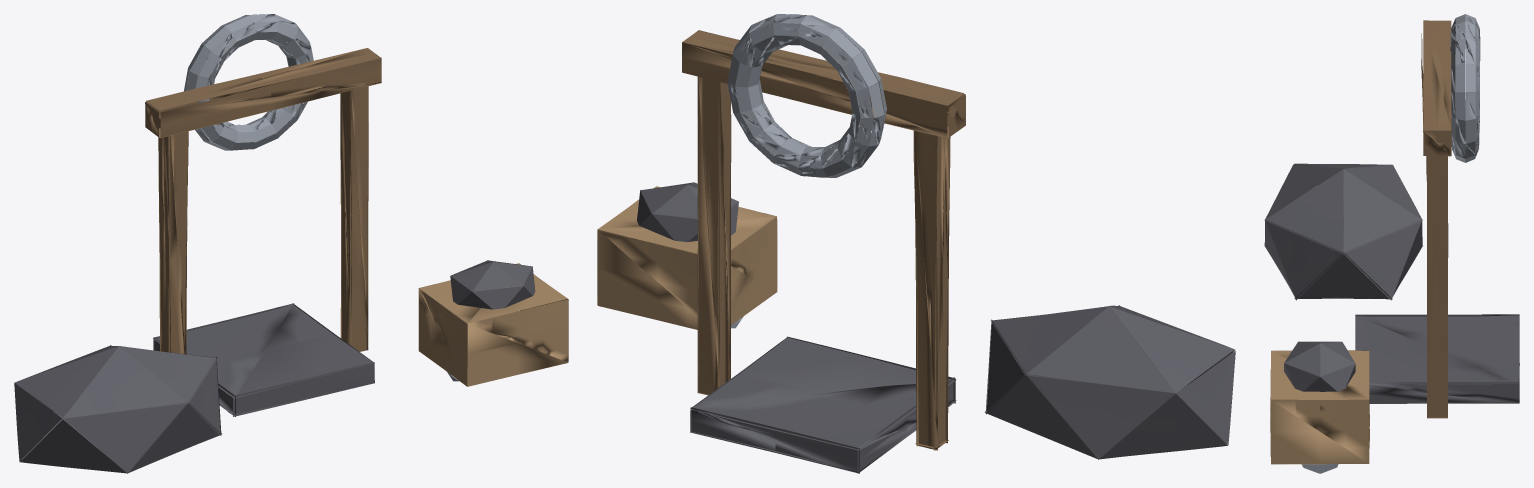
Rendered from coal_mine.glb.
3 renders of one model, left to right at view 1: azimuth 30°, elevation 25°; view 2: azimuth 150°, elevation 25°; view 3: azimuth 270°, elevation 25°, orthographic. The views are drawn at different scales.
Visible parts, largest first — view 1: CoalMineLegL; view 2: CoalMineLegL; view 3: CoalMineLegL.
Boxes of the visible parts, bbox=[...] form: CoalMineLegL: bbox=[14, 14, 568, 473]; CoalMineLegL: bbox=[597, 14, 1235, 473]; CoalMineLegL: bbox=[1264, 14, 1519, 473].
Size of the model in its own units: 2.55 by 1.73 by 1.09.
